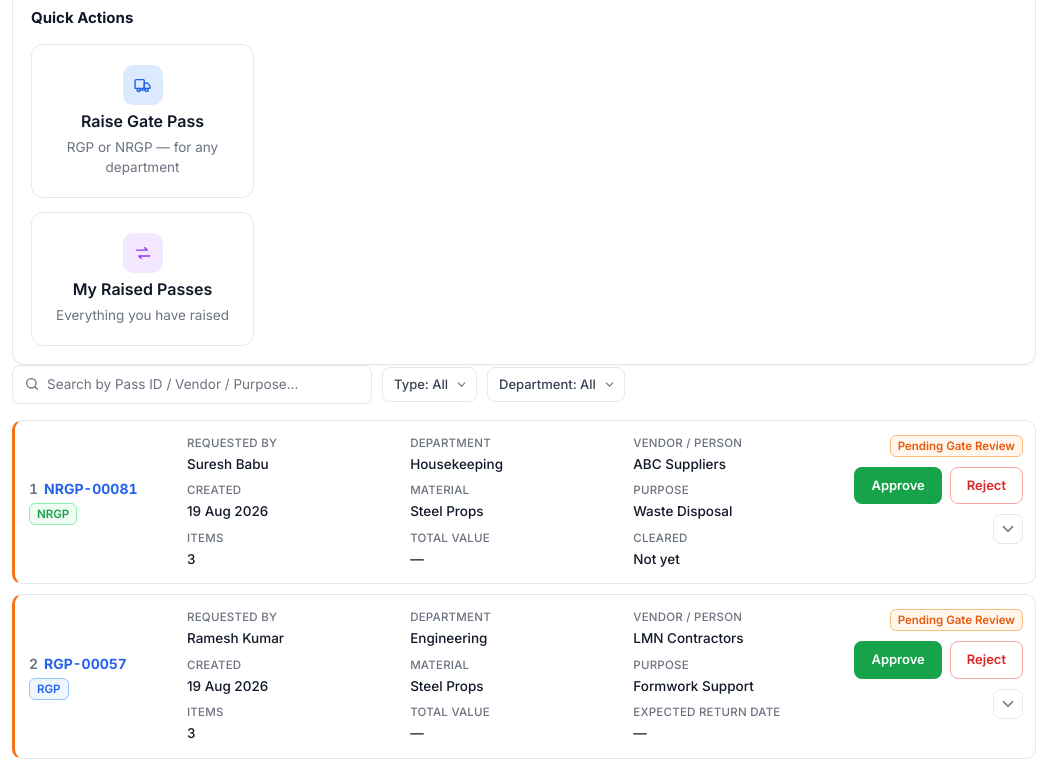
Scenario: The stack and its figure › narrows the figure and the stack together, so they cannot disagree
The width and height of the screenshot is (1048, 768).
(page scrolled)
Check: the text "RGP-00057" is shown, box [44, 655, 127, 672]
Type "NRGP-00081" into the field labelled "Search by Pass ID / Vendor / Purpose" at point(192, 384), box [12, 365, 372, 404]
(page scrolled)
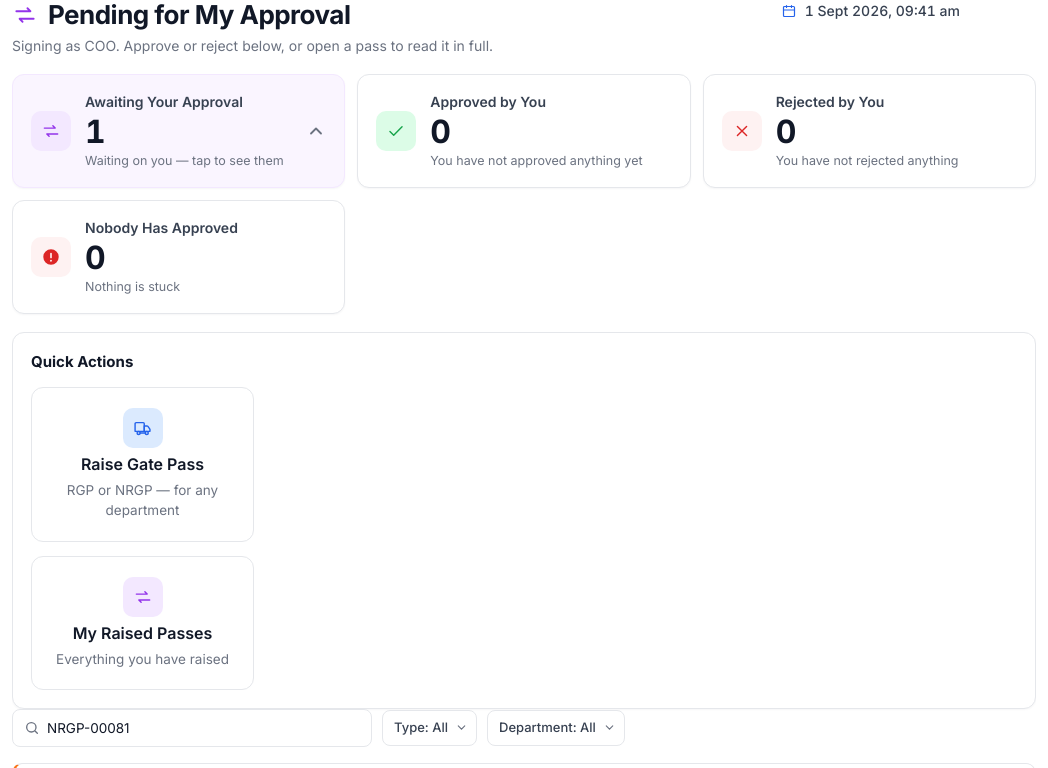
Check: the text with class "gpo-total-figure" reads "1", box [85, 112, 106, 151]
